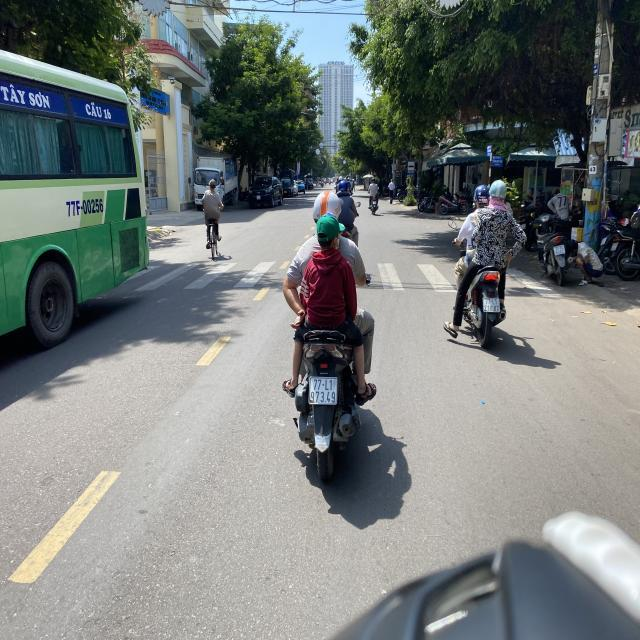walk-crossing: (141, 259, 285, 293), (372, 259, 454, 295)
